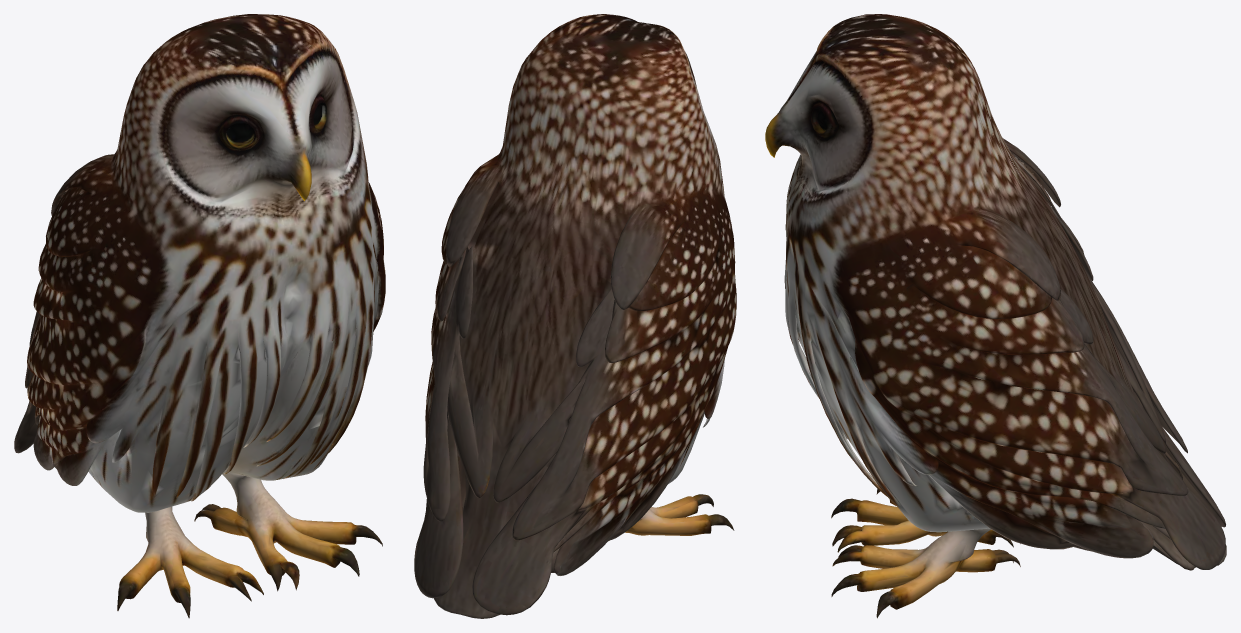
Rendered from barred-owl.glb.
3 renders of one model, left to right at view 1: azimuth 30°, elevation 25°; view 2: azimuth 150°, elevation 25°; view 3: azimuth 270°, elevation 25°, orthographic. The views are drawn at different scales.
Visible parts, largest first — view 1: material; view 2: material; view 3: material.
Boxes of the visible parts, x1,y1,x2,y2 form: material: (14, 14, 385, 618); material: (414, 14, 736, 618); material: (765, 14, 1226, 618).
Bounding box in the file's own units: 0.5268 × 0.9516 × 0.7604.
1 material, 1 textured.
